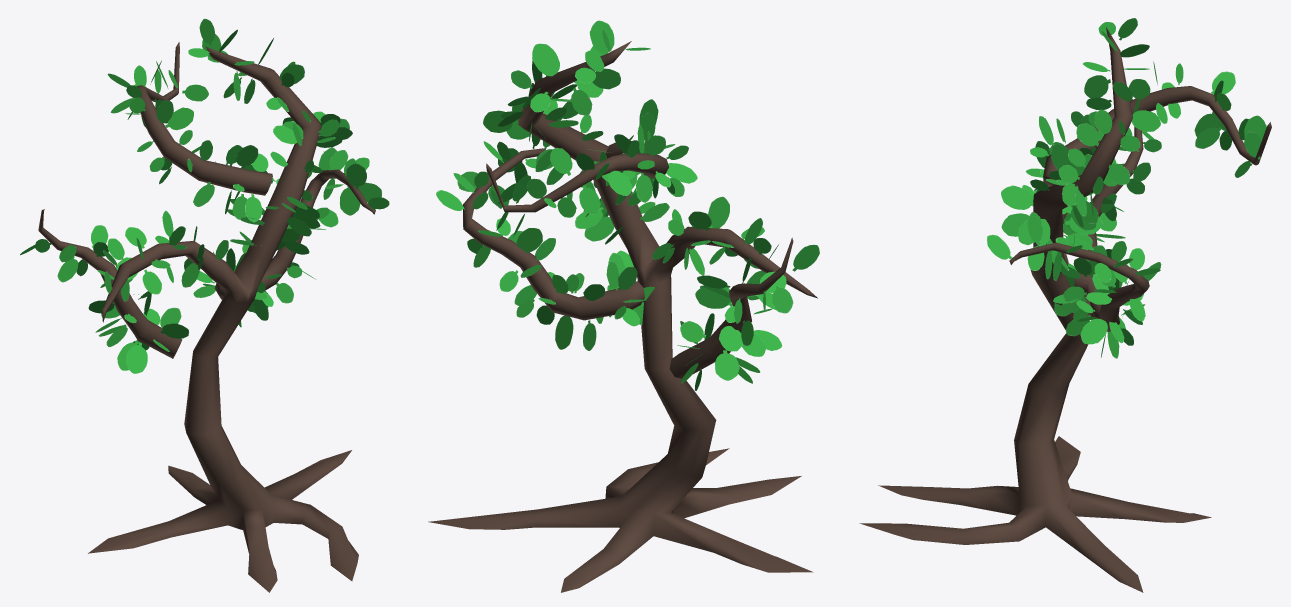
The model's file is tree1.fbx.
The picture shows the model from 3 angles, left to right: view 1: azimuth 30°, elevation 25°; view 2: azimuth 150°, elevation 25°; view 3: azimuth 270°, elevation 25°; orthographic projection. The views are drawn at different scales.
Parts seen in each view (by area): view 1: tree1_GEO; view 2: tree1_GEO; view 3: tree1_GEO.
Boxes of the visible parts, left/top/right/bottom form: tree1_GEO: left=20, top=18, right=389, bottom=592; tree1_GEO: left=428, top=20, right=819, bottom=592; tree1_GEO: left=859, top=18, right=1271, bottom=592.
Size of the model in its own units: 689 by 937 by 701.
Materials: 2 (1 with a texture image).
